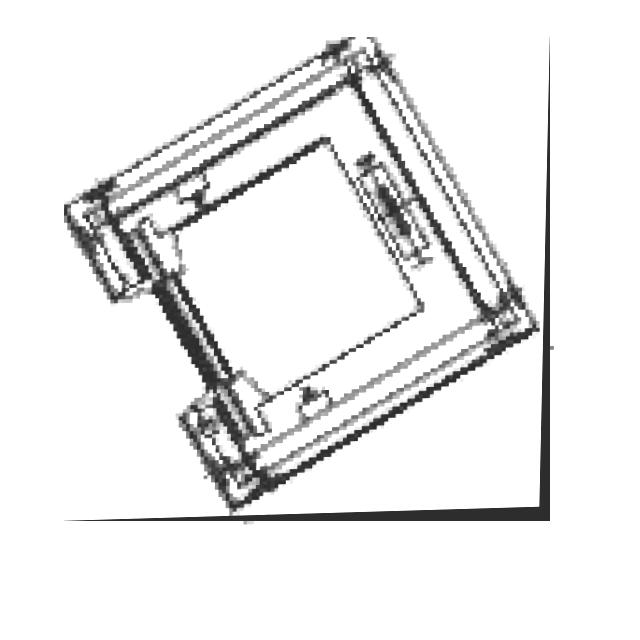lift: (64, 37, 550, 521)
